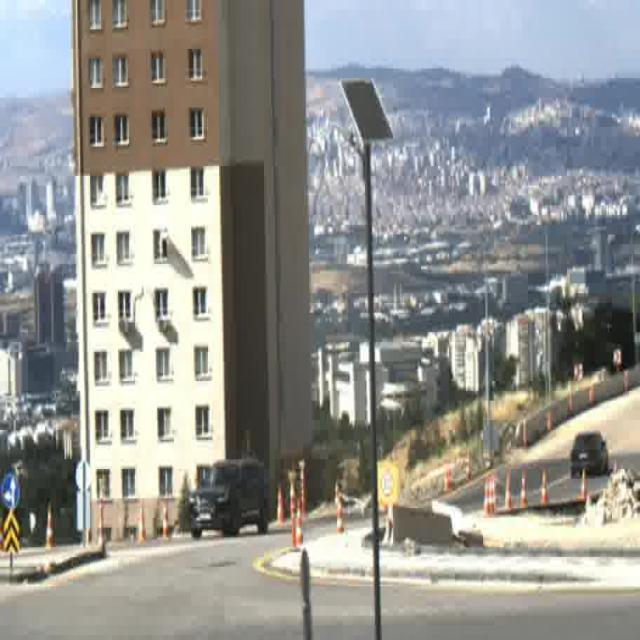Car: (191, 456, 266, 539), (572, 433, 606, 481)
